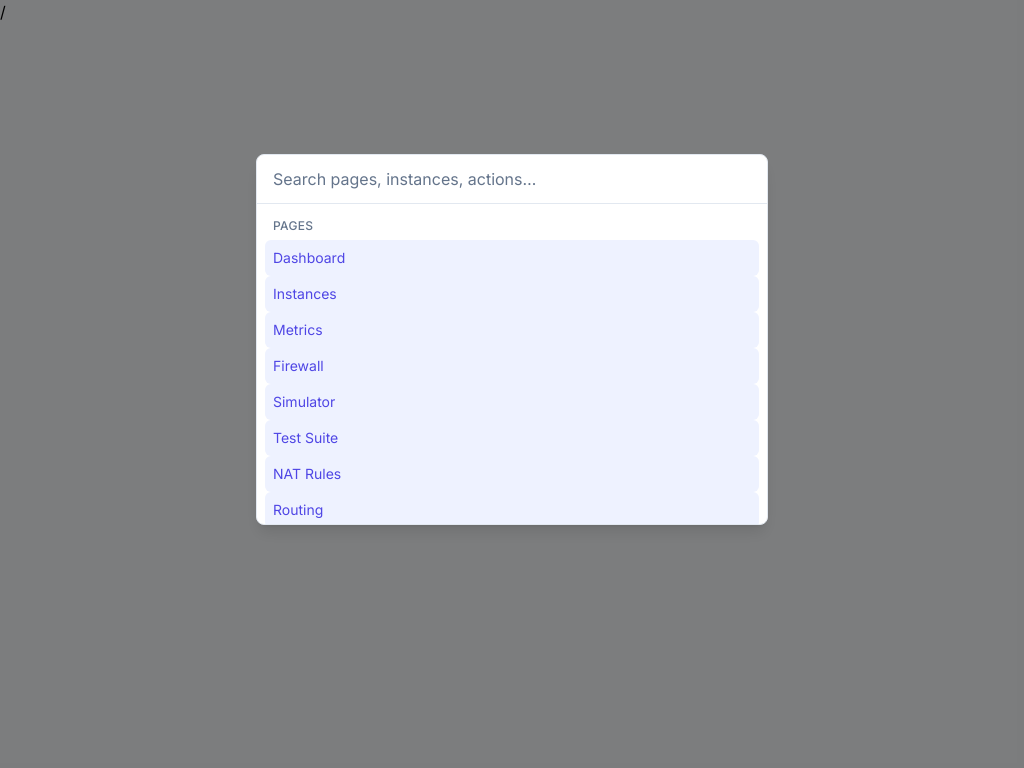
Command palette › typing "vpn" filters items: VPN visible, Dashboard hidden
Type "vpn" into the dropdown with placeholder "Search pages, instances, actions…" at (512, 179), box x1=257 y1=155 x2=767 y2=204
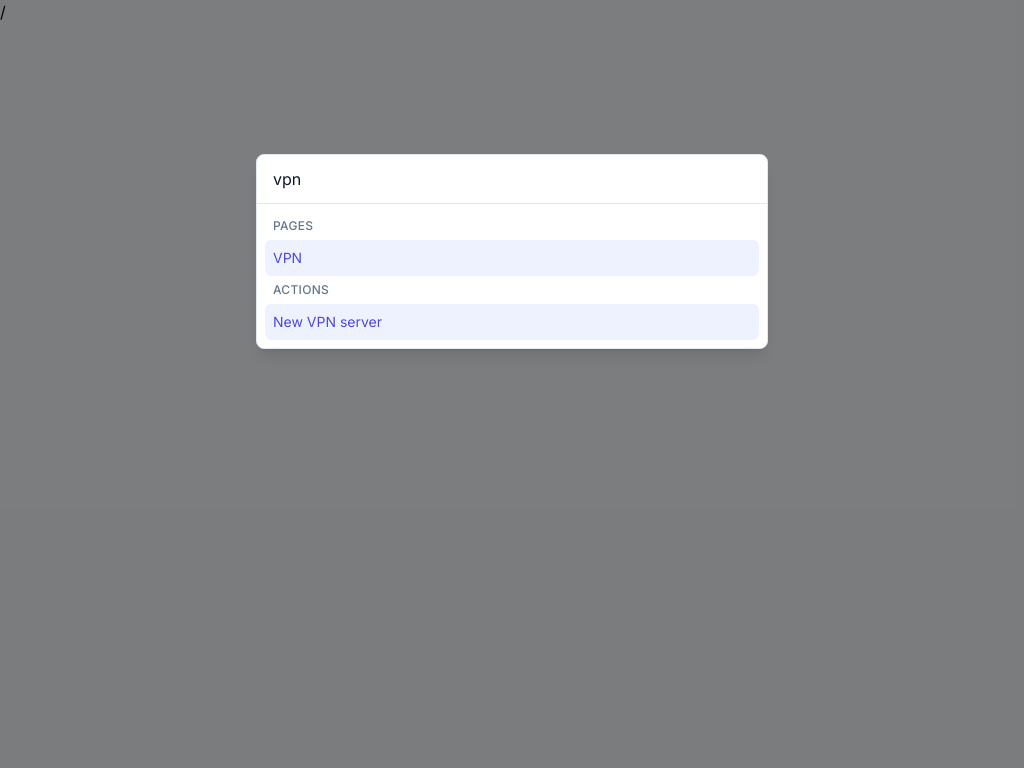
Expected: the option "VPN" is shown, x1=265 y1=240 x2=759 y2=276
Expected: the option "Dashboard" is gone
